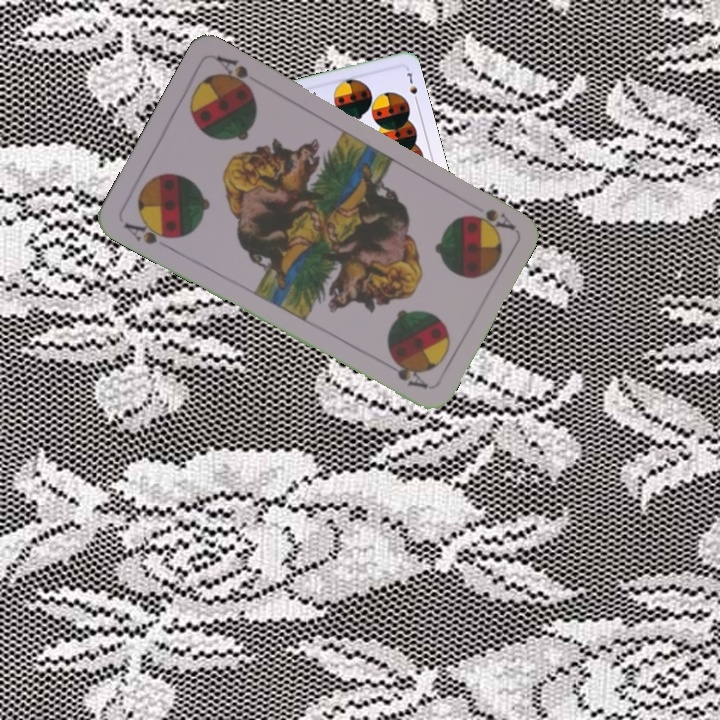SA: (120, 215, 178, 252), (469, 204, 517, 232)
